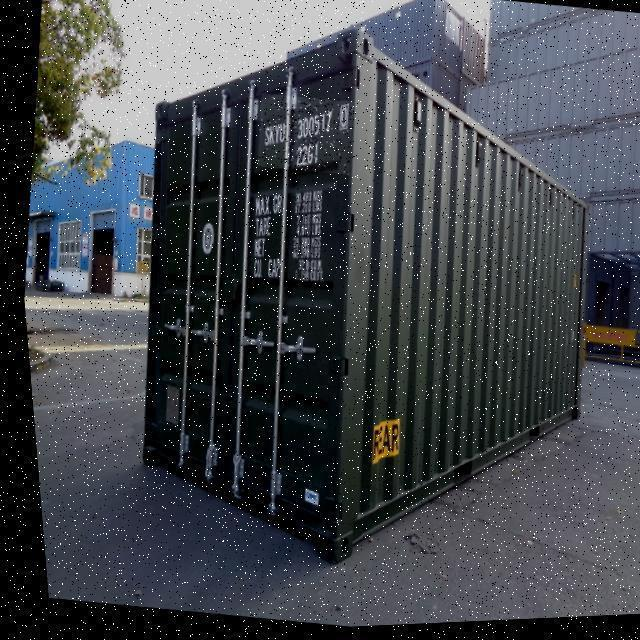ISO: (283, 142, 325, 172)
container_number: (256, 102, 350, 154)
